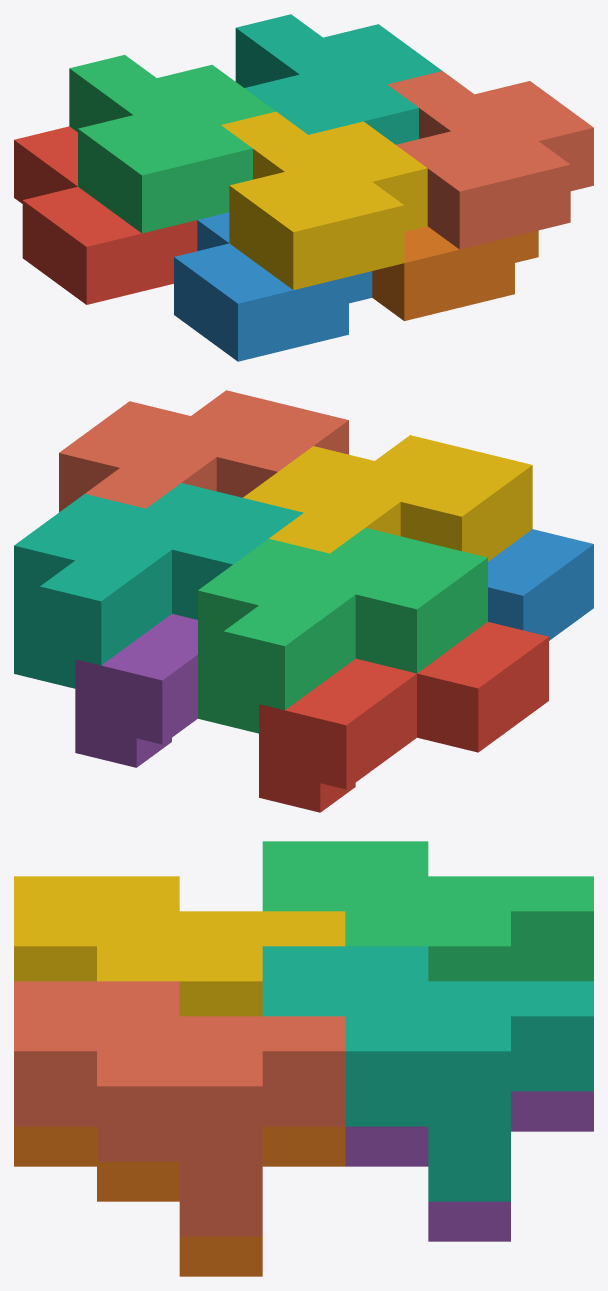
Rendered from tiling.obj.
The picture shows the model from 3 angles, top to bottom: view 1: azimuth 30°, elevation 25°; view 2: azimuth 150°, elevation 25°; view 3: azimuth 270°, elevation 25°; orthographic projection. The views are drawn at different scales.
Visible parts, largest first — view 1: copy_1_domain_4, copy_1_domain_3, copy_1_domain_8, copy_1_domain_7, copy_1_domain_1, copy_1_domain_2, copy_1_domain_6; view 2: copy_1_domain_3, copy_1_domain_7, copy_1_domain_1, copy_1_domain_4, copy_1_domain_8, copy_1_domain_5, copy_1_domain_2; view 3: copy_1_domain_8, copy_1_domain_7, copy_1_domain_3, copy_1_domain_4, copy_1_domain_6, copy_1_domain_5.
Part boxes in pixels (bbox=[...]): copy_1_domain_4: bbox=[221, 111, 427, 290]; copy_1_domain_3: bbox=[69, 55, 275, 233]; copy_1_domain_8: bbox=[387, 71, 593, 249]; copy_1_domain_7: bbox=[235, 14, 441, 144]; copy_1_domain_1: bbox=[14, 126, 197, 304]; copy_1_domain_2: bbox=[174, 212, 372, 361]; copy_1_domain_6: bbox=[372, 226, 538, 320]; copy_1_domain_3: bbox=[198, 527, 487, 733]; copy_1_domain_7: bbox=[14, 483, 303, 688]; copy_1_domain_1: bbox=[259, 622, 548, 812]; copy_1_domain_4: bbox=[243, 435, 532, 561]; copy_1_domain_8: bbox=[59, 390, 348, 512]; copy_1_domain_5: bbox=[75, 614, 197, 767]; copy_1_domain_2: bbox=[488, 529, 593, 640]; copy_1_domain_8: bbox=[14, 981, 345, 1236]; copy_1_domain_7: bbox=[262, 946, 593, 1201]; copy_1_domain_3: bbox=[262, 841, 593, 981]; copy_1_domain_4: bbox=[14, 876, 345, 1016]; copy_1_domain_6: bbox=[14, 1126, 345, 1276]; copy_1_domain_5: bbox=[345, 1091, 593, 1241].
Bounding box in the file's own units: 8 × 3 × 7.
